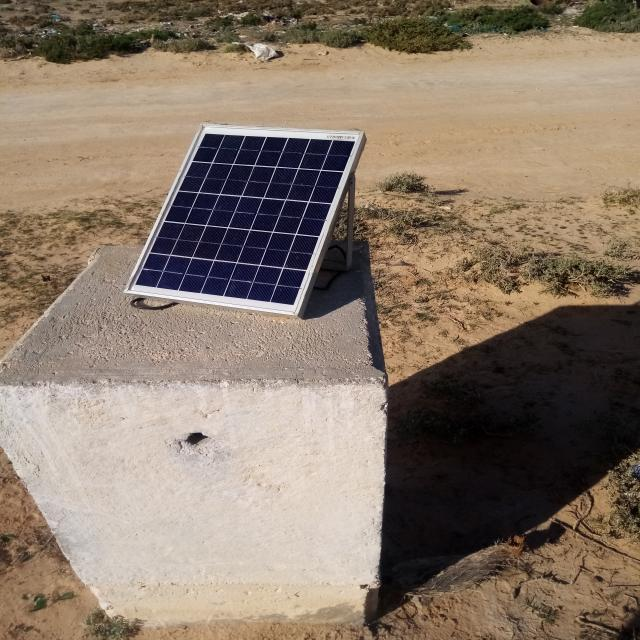Normal Solar Panel: (126, 125, 363, 314)
